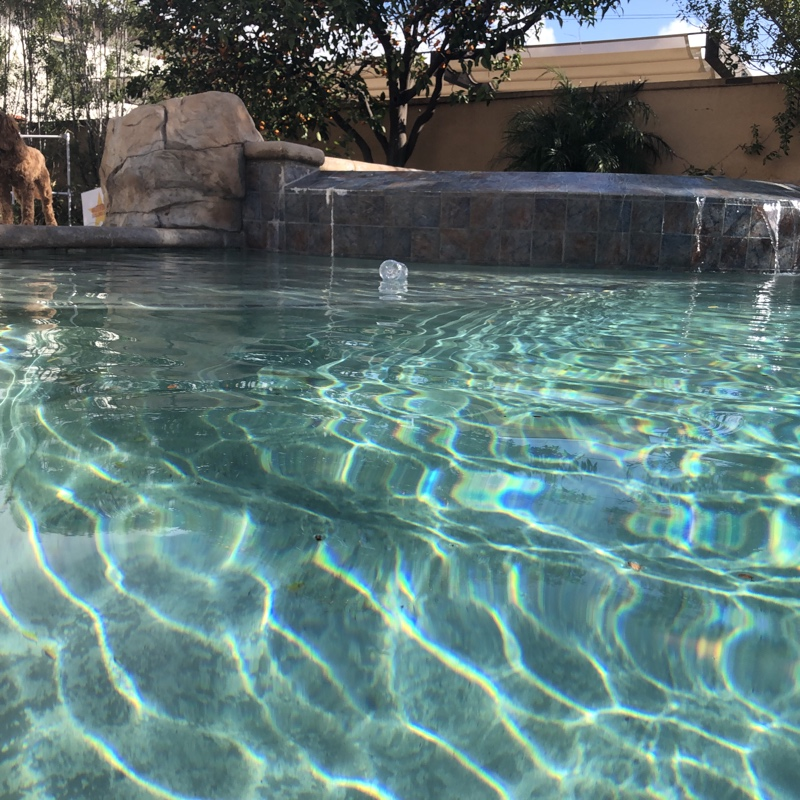Plastic Bottle: (377, 259, 408, 284)
